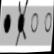correct: (2, 10, 12, 36)
not correct: (15, 0, 29, 48)
